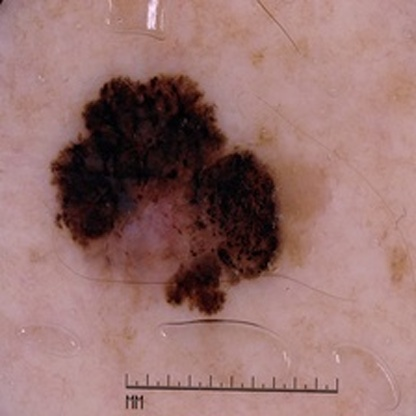malignant: (68, 81, 290, 282)
